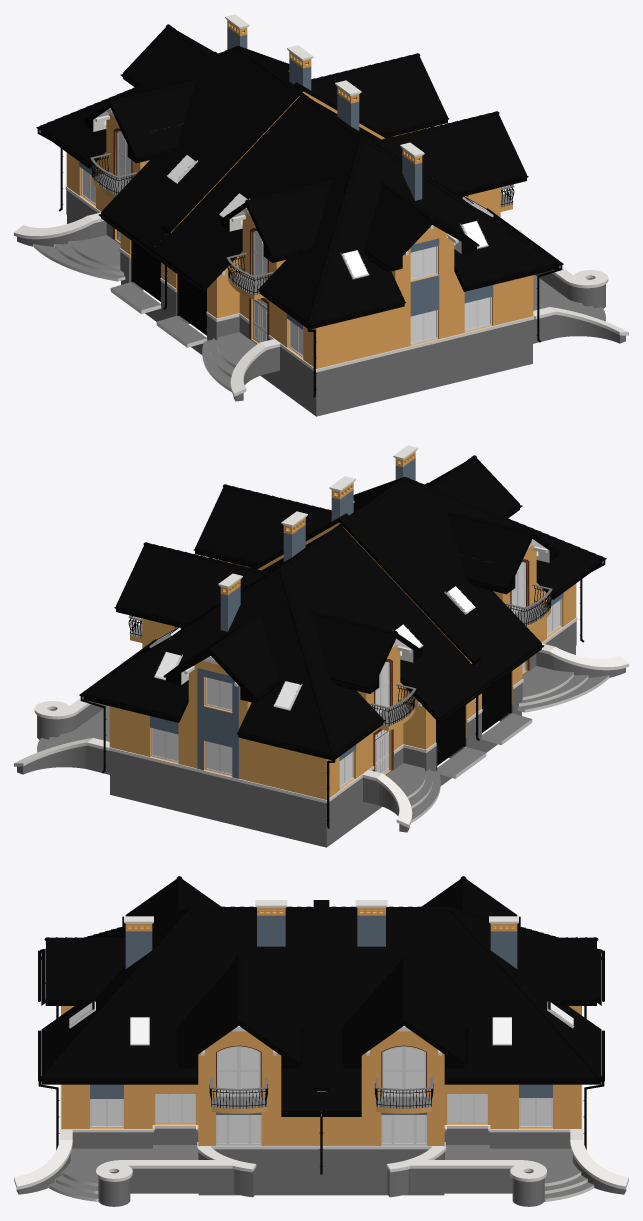
Rendered from house_th_25_03_15.FBX.
3 views of the same model, one above another, from view 1: azimuth 30°, elevation 25°; view 2: azimuth 150°, elevation 25°; view 3: azimuth 270°, elevation 25° (orthographic). The views are drawn at different scales.
Visible parts, largest first — view 1: Group001, AvizstudioToolsATiles008, AvizstudioToolsATiles007, AvizstudioToolsATiles009; view 2: Group001, AvizstudioToolsATiles009, AvizstudioToolsATiles010, AvizstudioToolsATiles008; view 3: Group001, AvizstudioToolsATiles010, AvizstudioToolsATiles007.
Part boxes in pixels (<box>): Group001: <box>14,14,628,416</box>; AvizstudioToolsATiles008: <box>306,137,363,325</box>; AvizstudioToolsATiles007: <box>363,137,560,264</box>; AvizstudioToolsATiles009: <box>39,46,237,128</box>; Group001: <box>14,445,628,847</box>; AvizstudioToolsATiles009: <box>279,568,336,756</box>; AvizstudioToolsATiles010: <box>82,568,279,695</box>; AvizstudioToolsATiles008: <box>405,477,603,559</box>; Group001: <box>14,879,628,1206</box>; AvizstudioToolsATiles010: <box>450,907,603,1080</box>; AvizstudioToolsATiles007: <box>39,907,192,1080</box>.
Size of the model in its own units: 794 by 443 by 1061.
